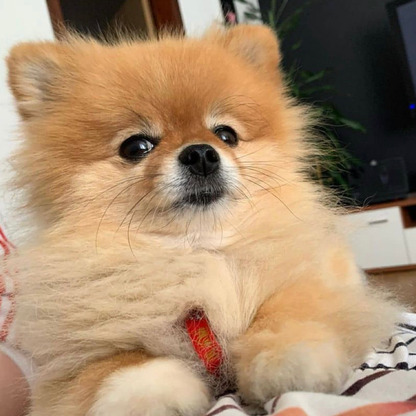Pomeranian: (17, 35, 355, 395)
